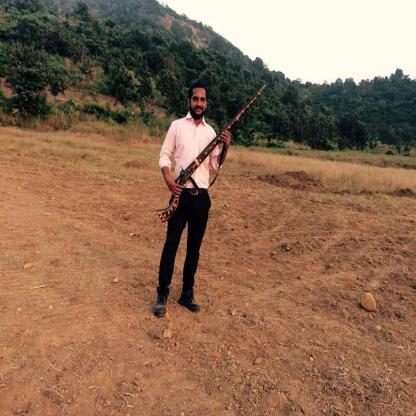rifle: (154, 83, 267, 224)
